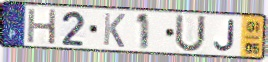1: (135, 13, 151, 51)
2: (58, 8, 88, 48)
H: (26, 7, 59, 46)
J: (212, 19, 236, 53)
K: (101, 11, 127, 49)
U: (173, 12, 208, 54)
